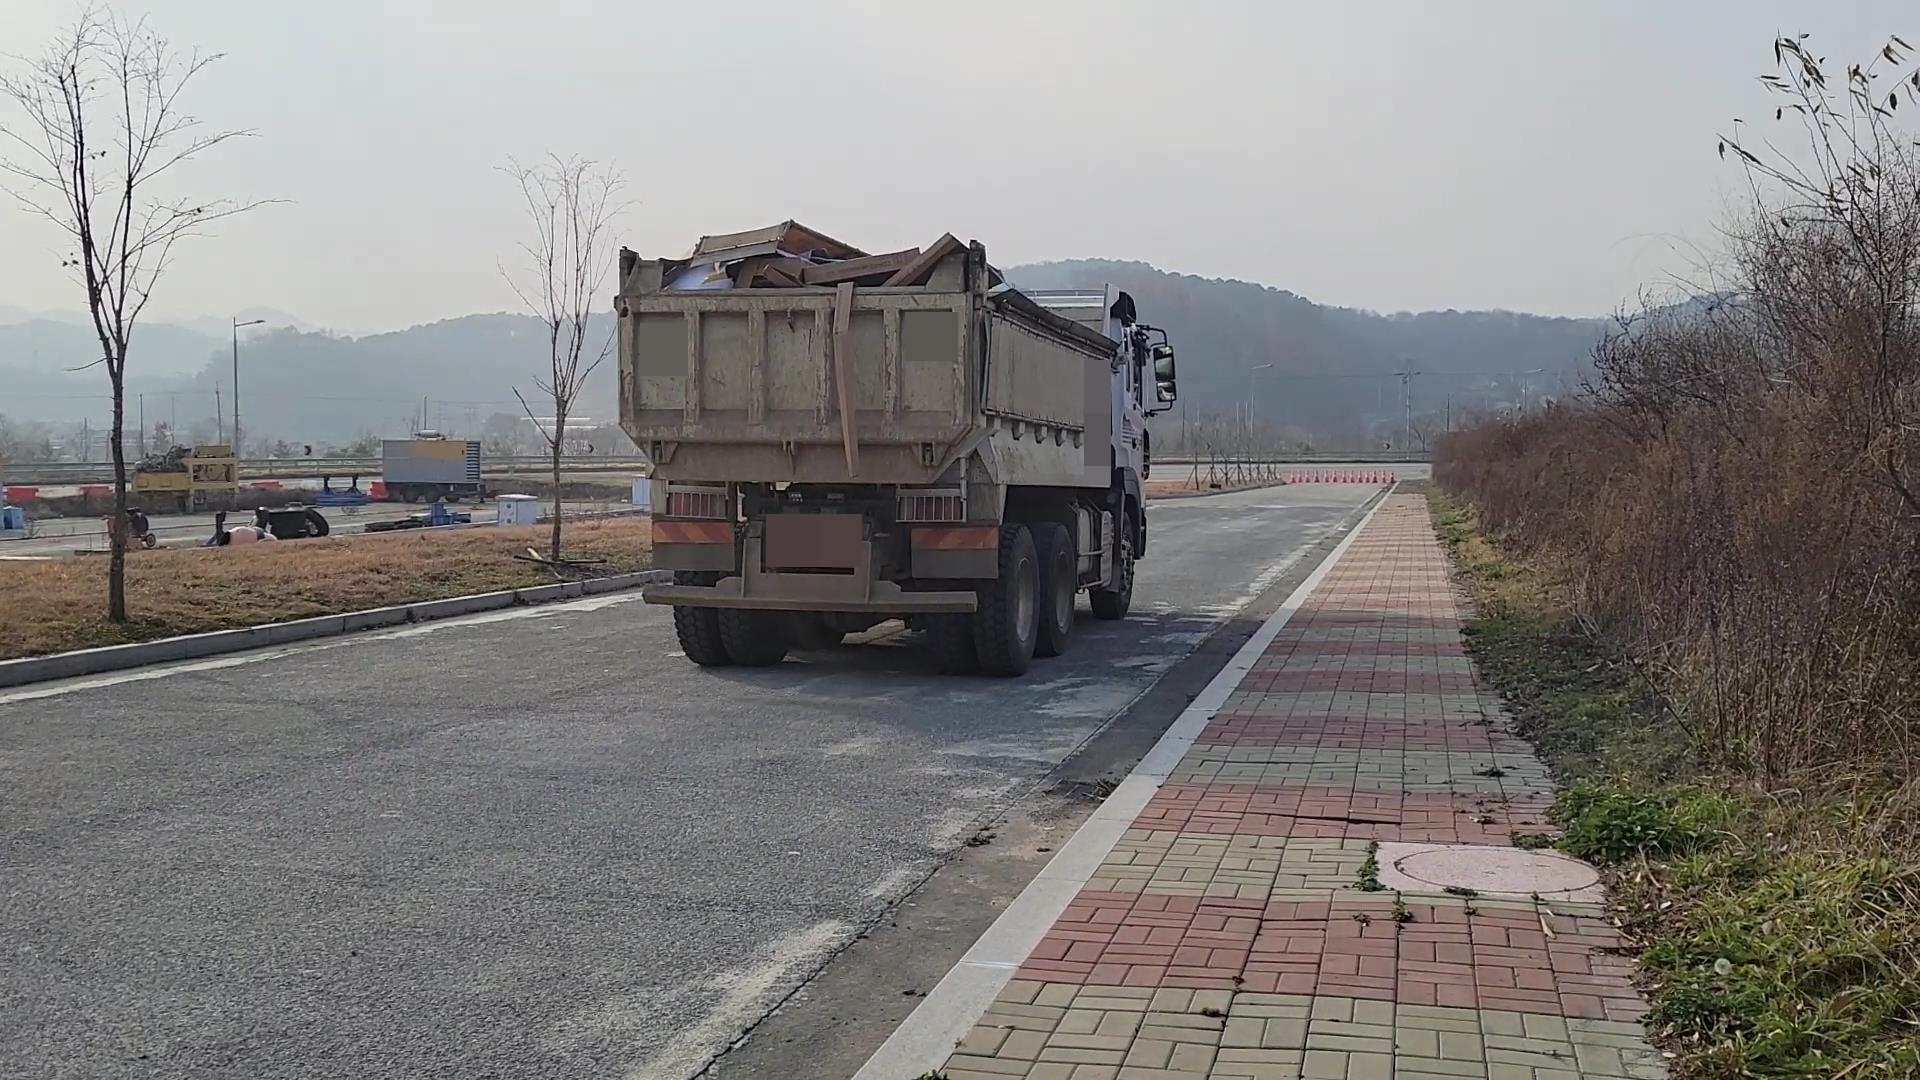불법차량: (613, 219, 1178, 676)
